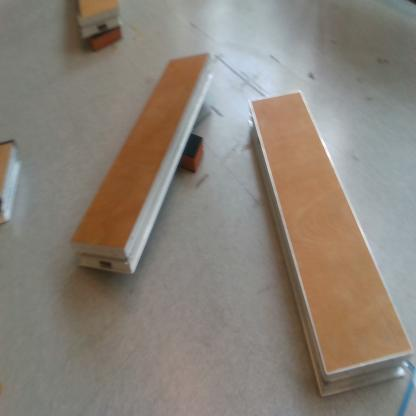Stairs: (250, 88, 415, 400), (73, 52, 215, 274), (1, 140, 25, 228), (77, 1, 123, 40)
